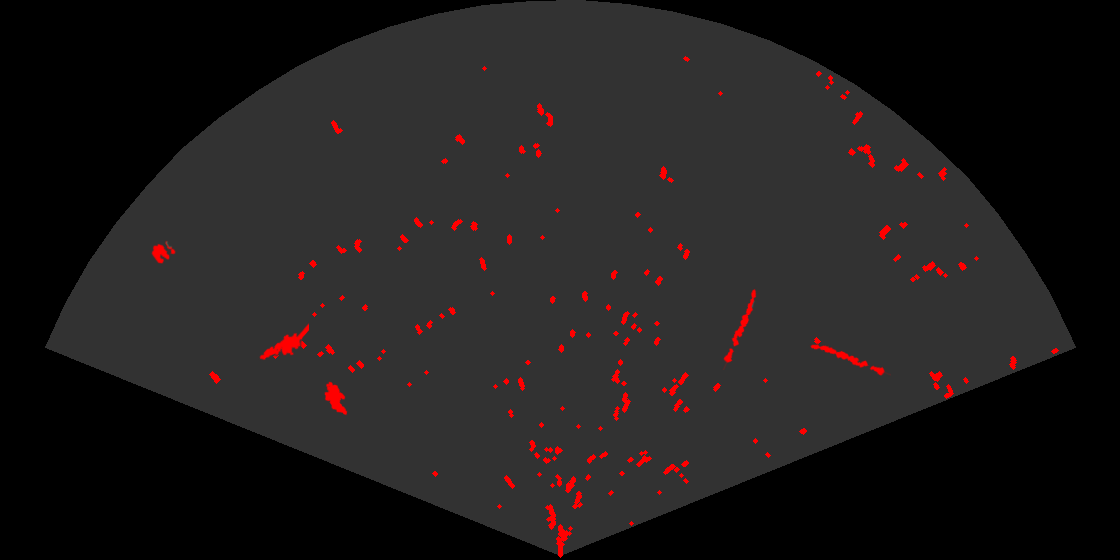AUV: (323, 380, 349, 417)
ball: (150, 239, 177, 265)
chain: (721, 287, 758, 370), (808, 343, 891, 377)
frogman: (258, 322, 309, 362)
